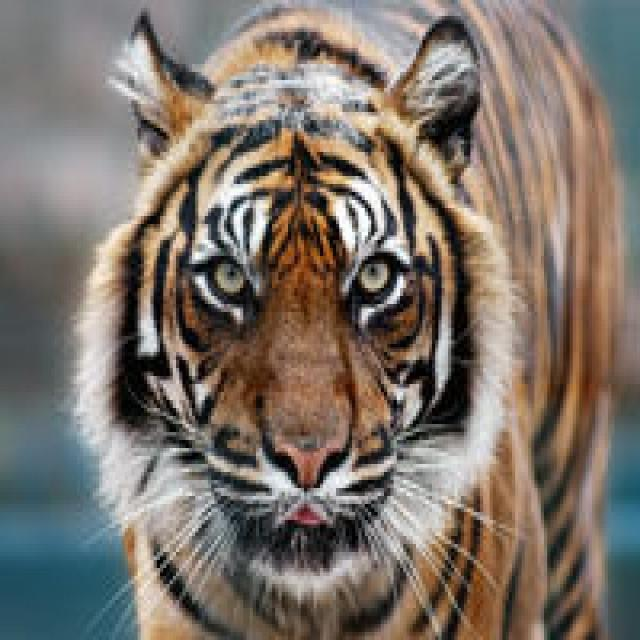Tiger: (77, 0, 624, 638)
